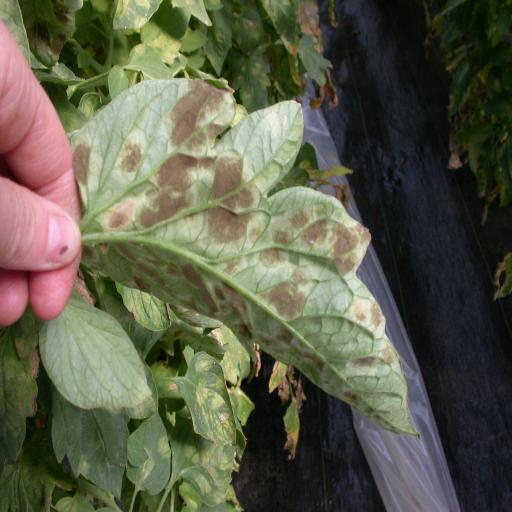Leaf Mold: (72, 79, 422, 438), (176, 348, 237, 446)
